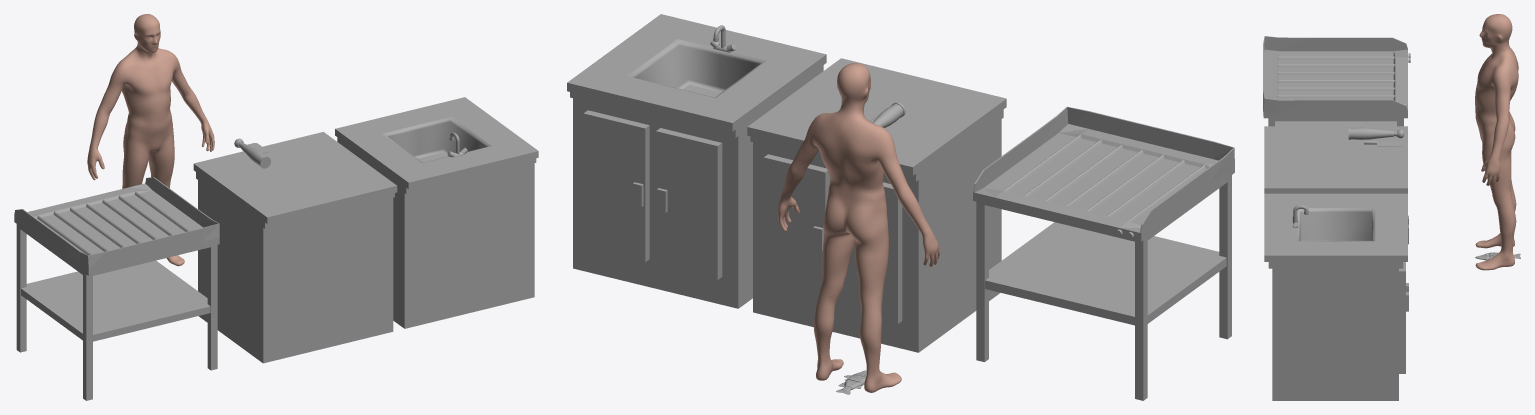
Rendered from Counter top.fbx.
3 renders of one model, left to right at view 1: azimuth 30°, elevation 25°; view 2: azimuth 150°, elevation 25°; view 3: azimuth 270°, elevation 25°, orthographic. The views are drawn at different scales.
Parts seen in each view (by area): view 1: polySurface59, polySurface56, polySurface51, polySurface52, pCube20, HumanBody1:humanBody, polySurface49, polySurface48; view 2: polySurface52, polySurface51, HumanBody1:humanBody, polySurface59, polySurface49, polySurface56, pCube20, polySurface55, polySurface54, polySurface58, polySurface48, polySurface57; view 3: polySurface56, polySurface52, pCube20, polySurface49, HumanBody1:humanBody, polySurface48, polySurface51, polySurface55, pCylinder4.
Boxes of the visible parts, x1,y1,x2,y2 form: polySurface59: [198, 180, 393, 363]; polySurface56: [393, 163, 534, 328]; polySurface51: [16, 224, 217, 400]; polySurface52: [14, 177, 219, 275]; pCube20: [193, 132, 397, 228]; HumanBody1:humanBody: [87, 14, 214, 266]; polySurface49: [335, 97, 538, 194]; polySurface48: [382, 116, 491, 162]; polySurface52: [973, 106, 1234, 241]; polySurface51: [976, 175, 1231, 400]; HumanBody1:humanBody: [777, 63, 939, 392]; polySurface59: [753, 119, 1001, 352]; polySurface49: [567, 14, 826, 137]; polySurface56: [573, 98, 752, 308]; pCube20: [747, 58, 1006, 181]; polySurface55: [583, 110, 649, 262]; polySurface54: [656, 128, 722, 279]; polySurface58: [763, 154, 829, 303]; polySurface48: [626, 39, 766, 97]; polySurface57: [836, 182, 902, 323]; polySurface56: [1272, 268, 1408, 400]; polySurface52: [1263, 36, 1407, 118]; pCube20: [1264, 126, 1407, 193]; polySurface49: [1264, 193, 1407, 268]; HumanBody1:humanBody: [1475, 14, 1518, 270]; polySurface48: [1297, 208, 1375, 241]; polySurface51: [1268, 118, 1403, 126]; polySurface55: [1399, 262, 1405, 373]; pCylinder4: [1348, 127, 1404, 139].
Bounding box in the file's own units: 3.47 × 1.93 × 1.76.
